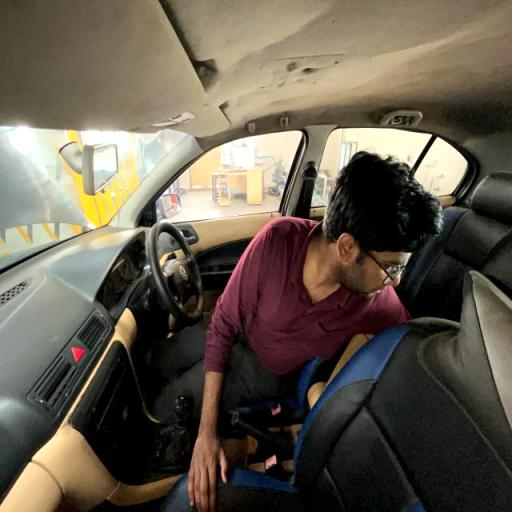Reaching_behind: (194, 148, 448, 478)
